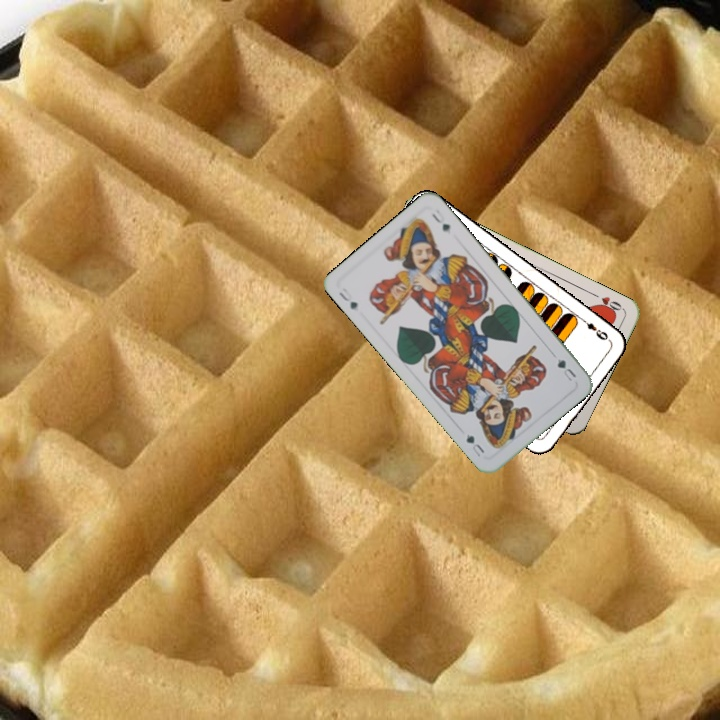E9: (577, 314, 611, 343)
GU: (553, 354, 579, 384), (334, 288, 360, 312)
HO: (588, 289, 626, 316)
